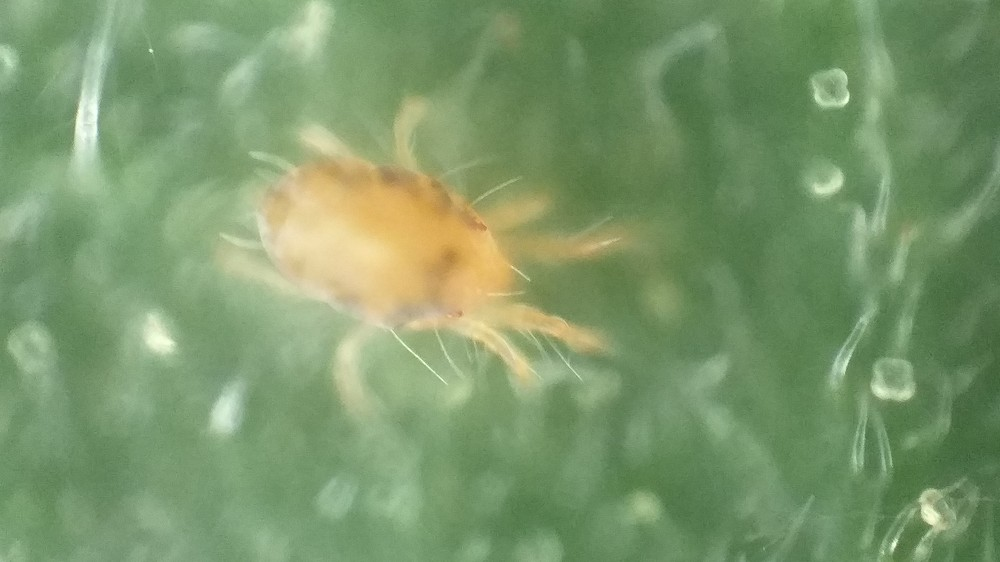Aracnido Rojo: (207, 101, 667, 423)
